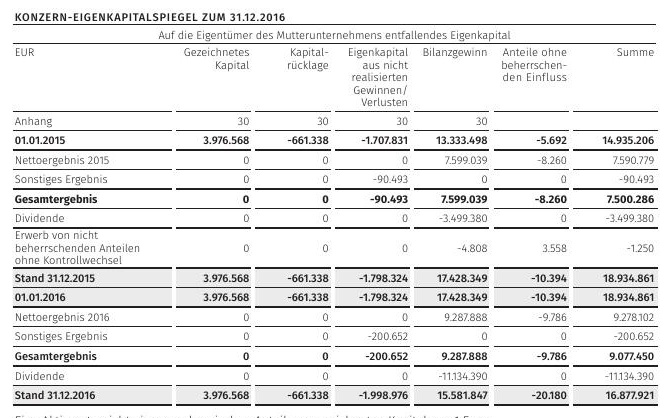table: (0, 0, 670, 418)
